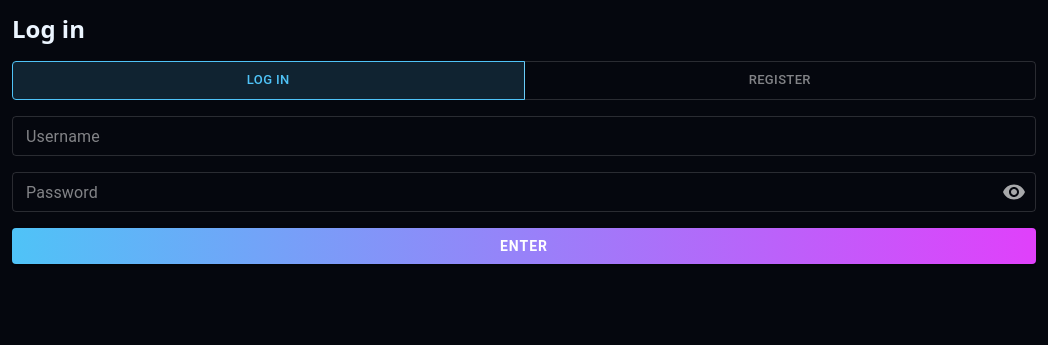
RegisterForm › shows a validation error when username is empty
In the password field labelled "Password": (499, 192) [12, 172, 986, 212], type "123456"
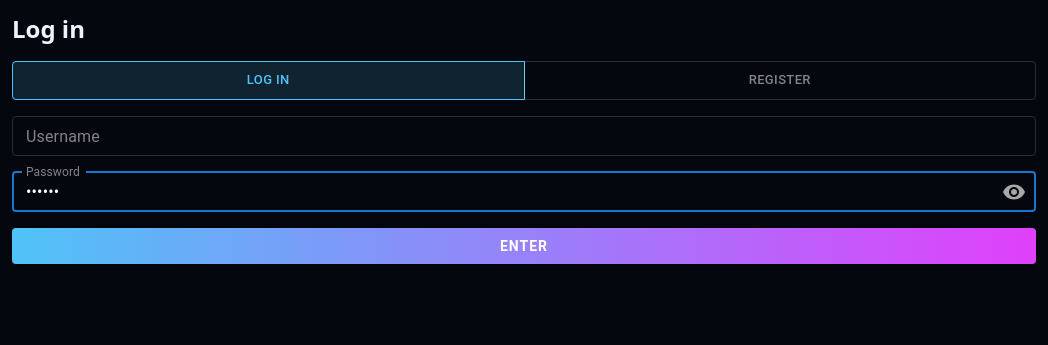
Click the button "Enter": (524, 246) [12, 228, 1036, 264]
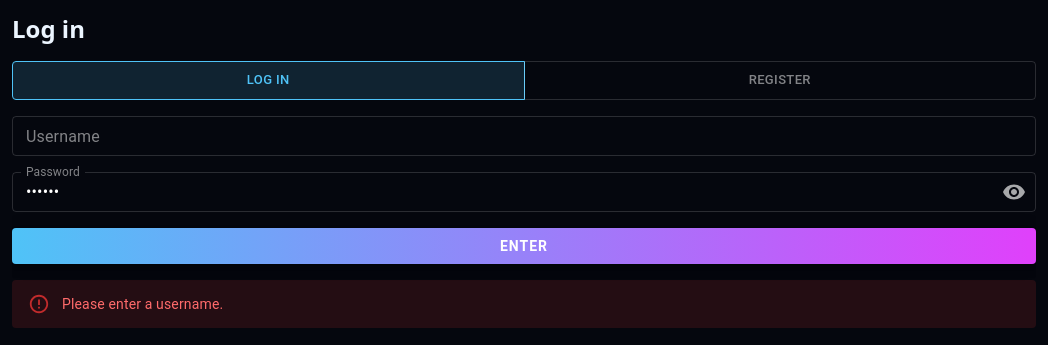
Now the text "Please enter a username." is shown, box [62, 296, 223, 312]
